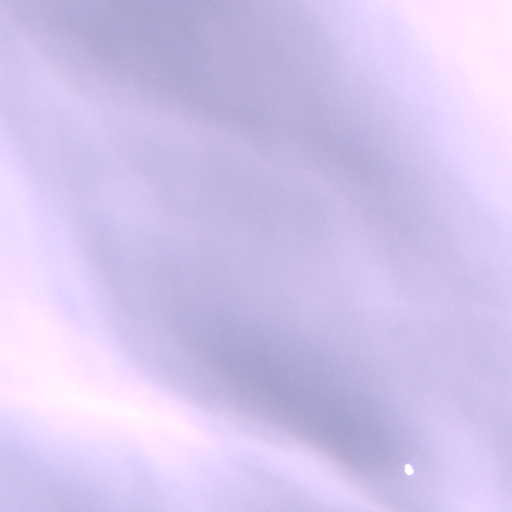Iceberg: (405, 464, 413, 474)
